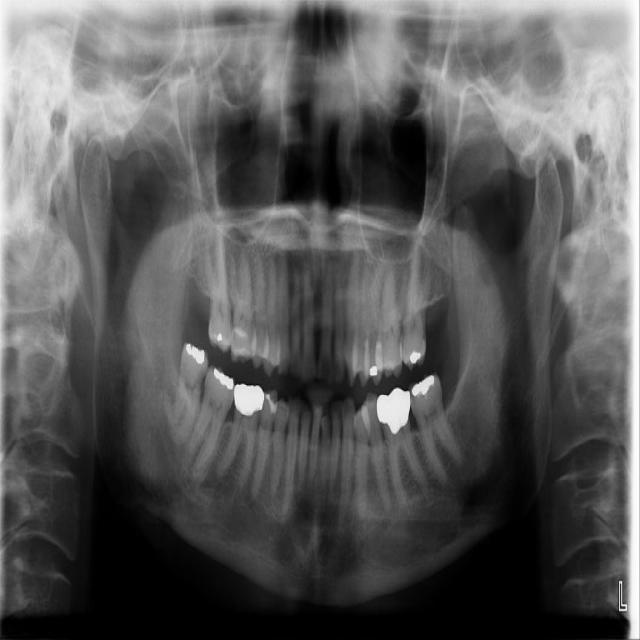Caries: (402, 326, 406, 345), (200, 374, 204, 389)
Crown: (376, 388, 411, 437), (234, 384, 263, 417)
Filling: (411, 374, 443, 404), (231, 327, 255, 359), (210, 368, 235, 393), (185, 346, 205, 368), (404, 347, 424, 369), (262, 392, 278, 414), (367, 360, 382, 379), (208, 332, 228, 346)
